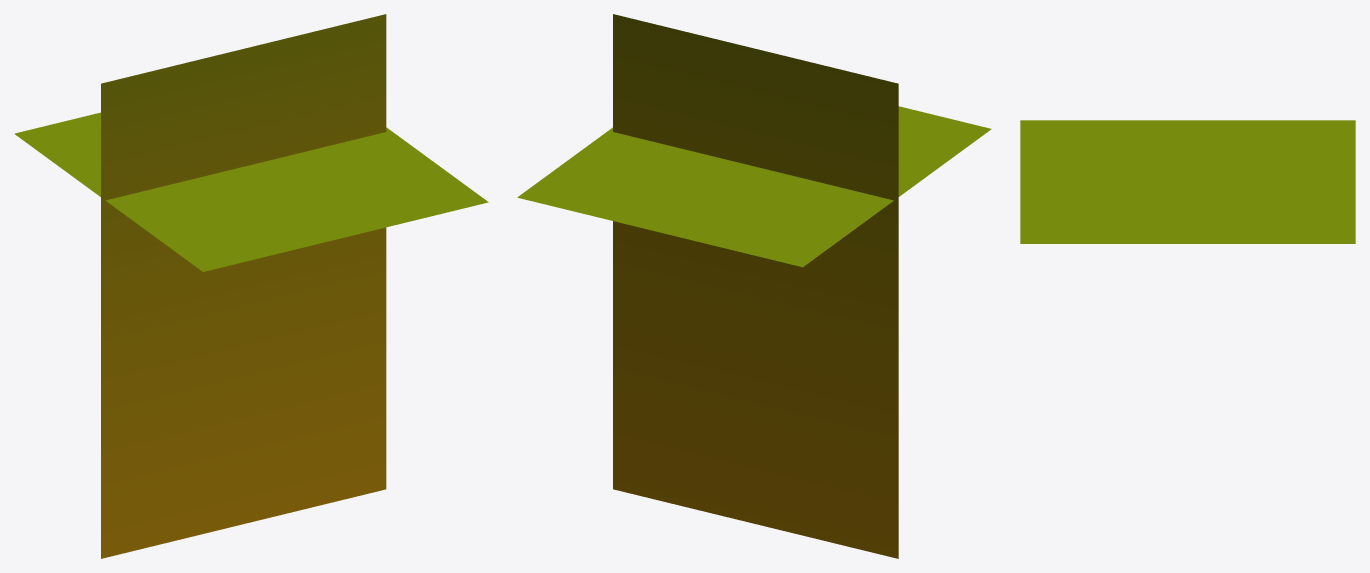
Rendered from Water Cabbage_LOD3_Var5_sjdlV.fbx.
3 views of the same model, side by side, from view 1: azimuth 30°, elevation 25°; view 2: azimuth 150°, elevation 25°; view 3: azimuth 270°, elevation 25° (orthographic). The views are drawn at different scales.
Visible parts, largest first — view 1: _f80b_Var5_LOD3; view 2: _f80b_Var5_LOD3; view 3: _f80b_Var5_LOD3.
Part boxes in pixels (left/top/right/bottom): _f80b_Var5_LOD3: left=14, top=14, right=488, bottom=558; _f80b_Var5_LOD3: left=517, top=14, right=991, bottom=558; _f80b_Var5_LOD3: left=1020, top=120, right=1355, bottom=243.
Size of the model in its own units: 14.68 by 22.98 by 16.57.
